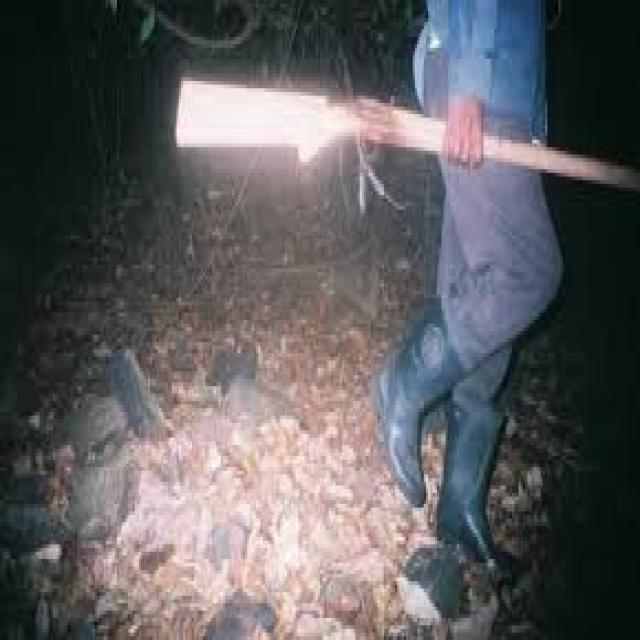weapon: (145, 50, 613, 260)
